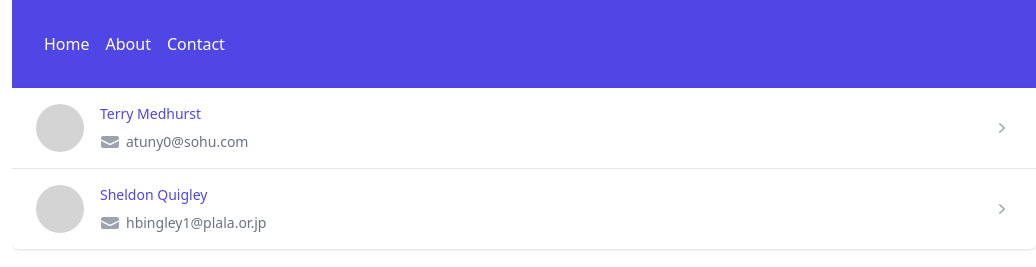
Root component › should allow user use navigation
Go to about page
Click the link "About" at (128, 44), box [106, 33, 151, 55]
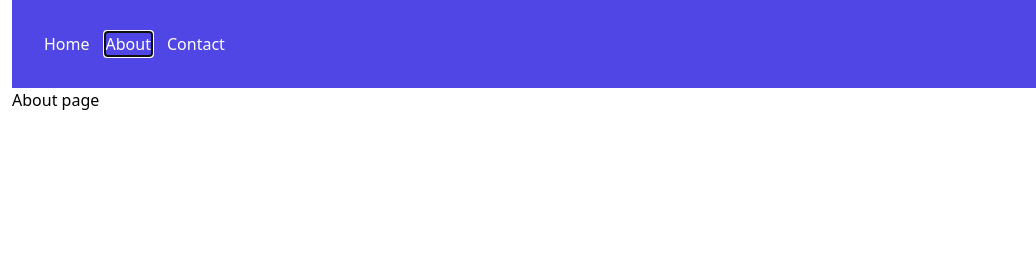
Check: the text "About page" is shown, box [12, 89, 99, 111]
